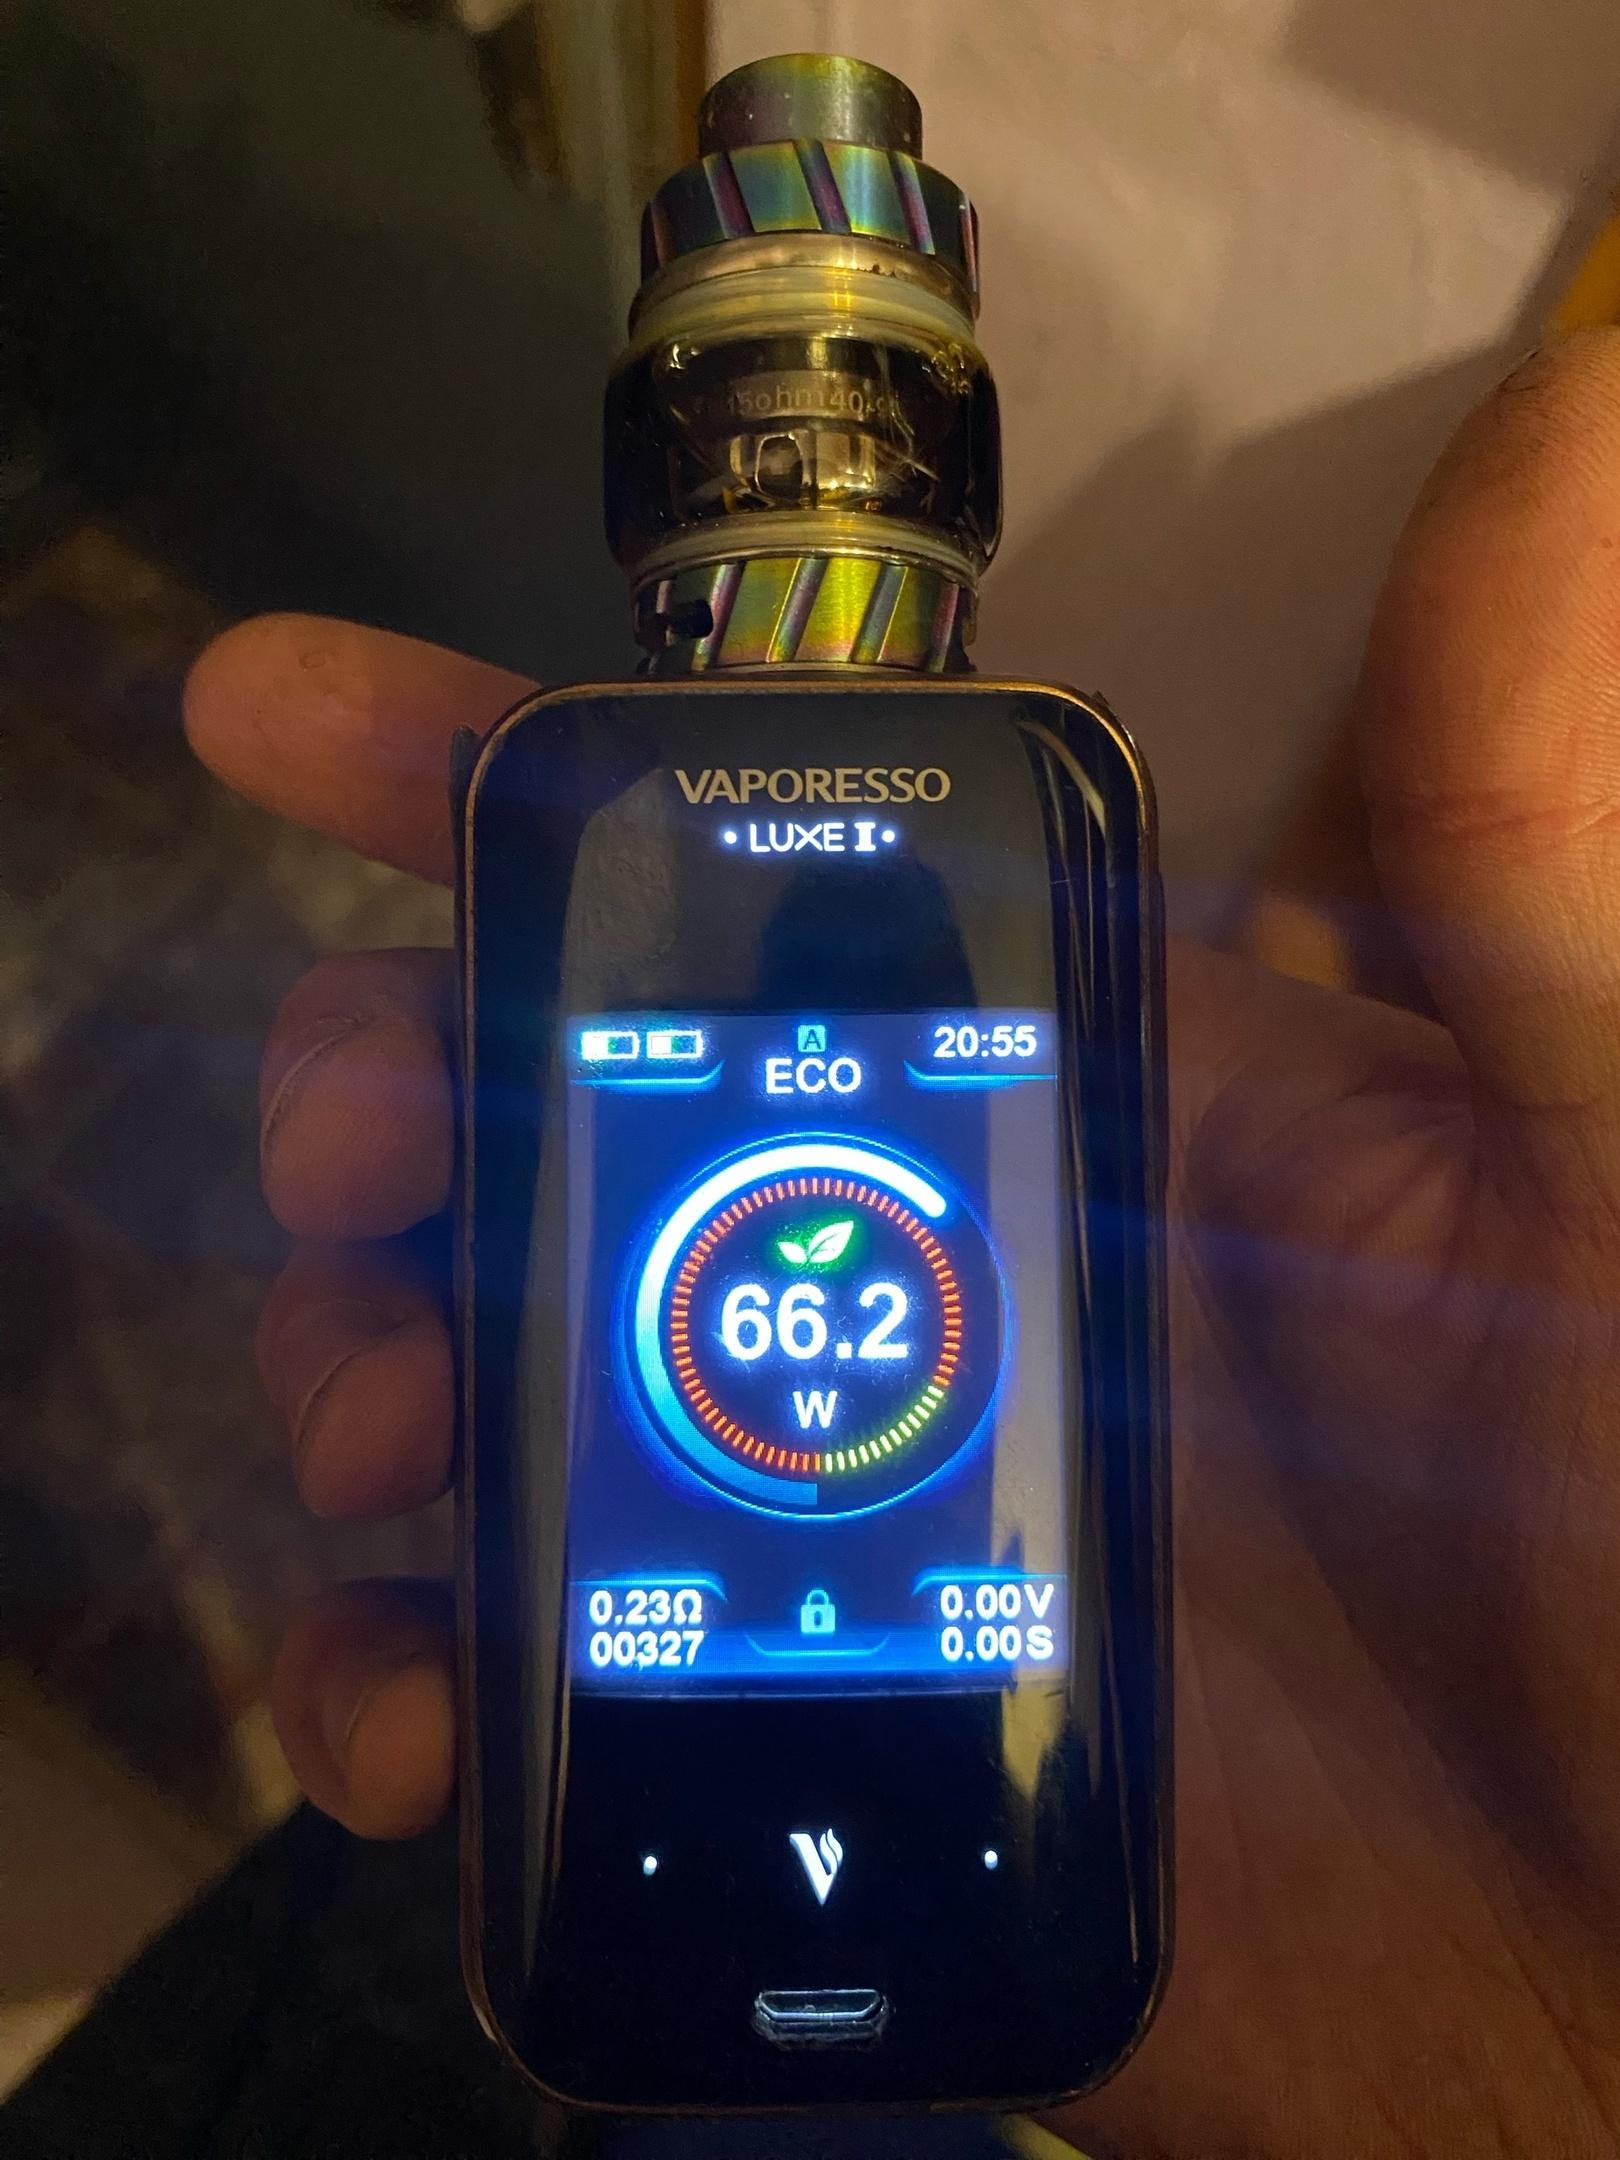Vape: (453, 54, 1167, 2112)
